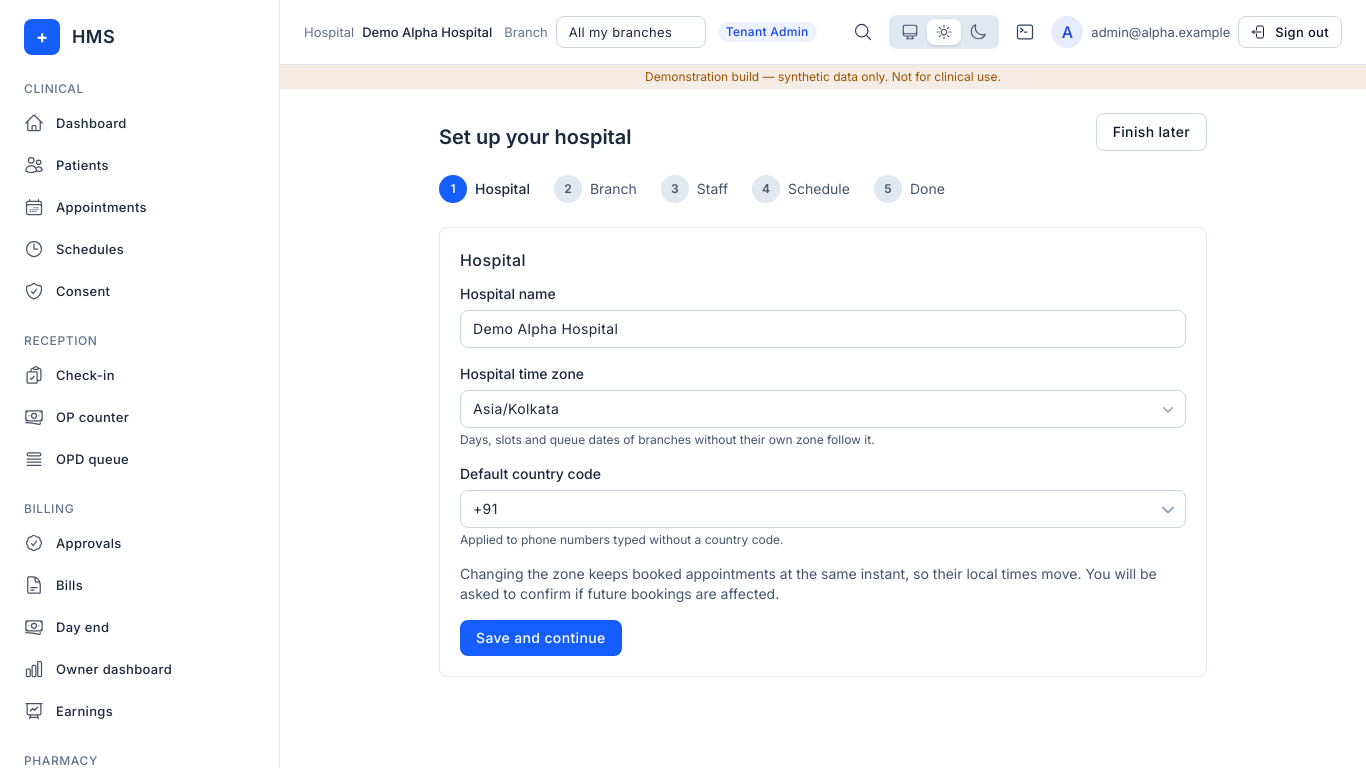
setup wizard gate › sends a new hospital admin to the wizard, and Finish later returns to the dashboard
Expected: the heading "Set up your hospital" is shown, [439,123,632,151]
Expected: the list named "Setup progress" is shown, [439,175,945,203]
Click the button "Finish later". click: coordinates (1151, 132)
box: [1096,113,1207,151]
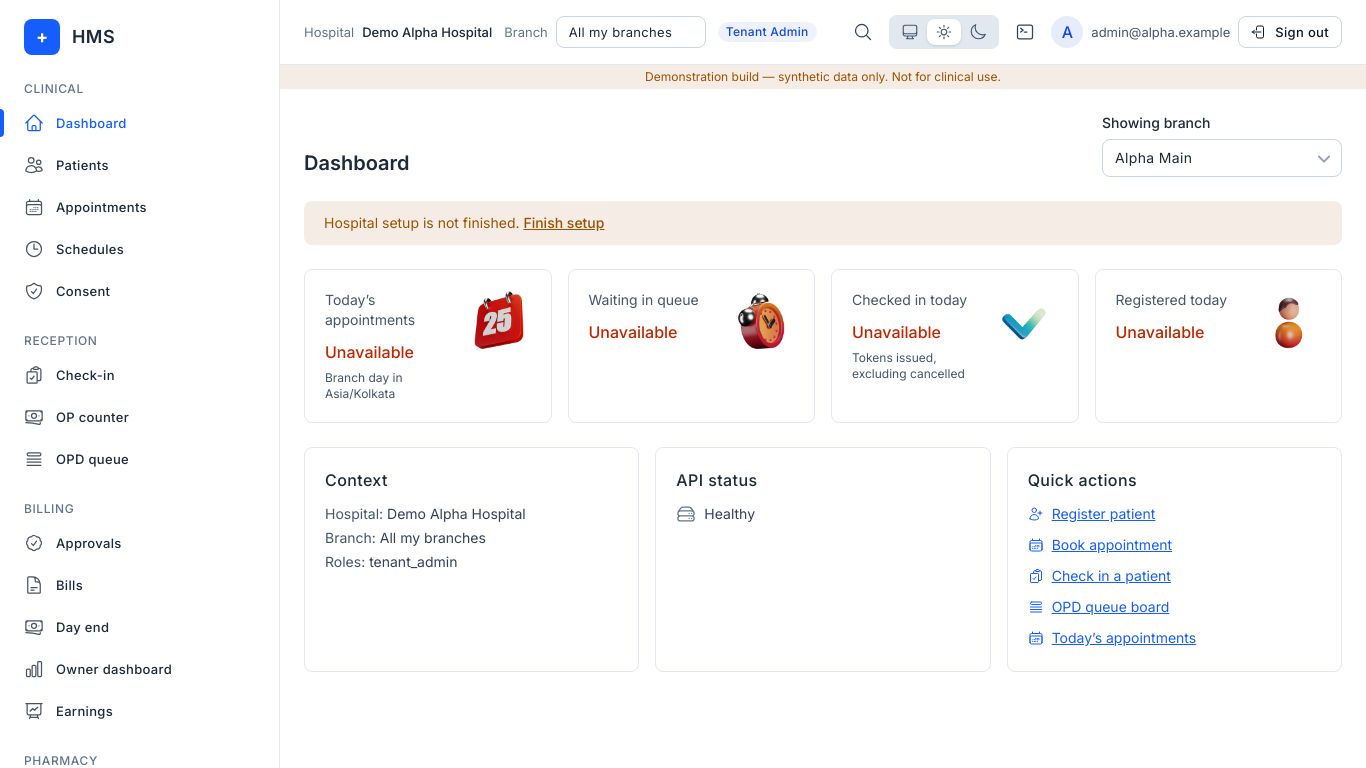
Result: the heading "Dashboard" is shown at [304,149,410,177]
Result: the element with test id "finish-setup" shows "Finish setup" at [523,214,604,231]
